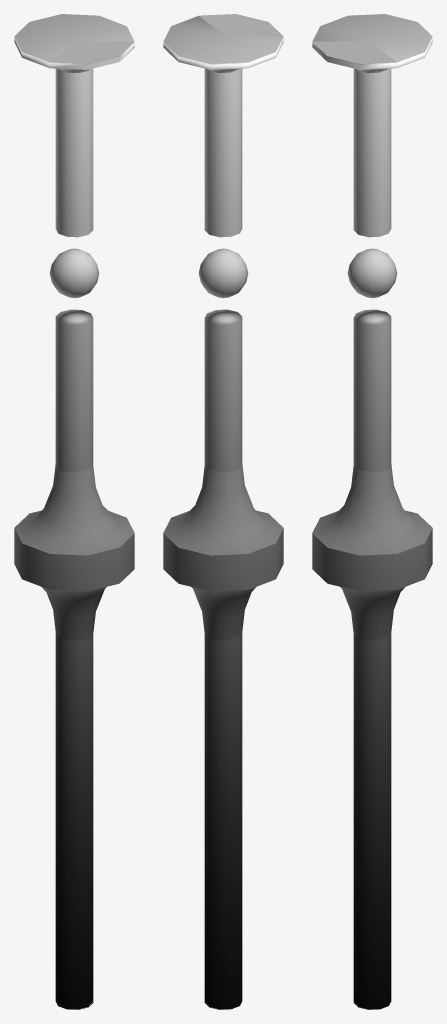
The model's file is BG_Column_V1.fbx.
3 renders of one model, left to right at view 1: azimuth 30°, elevation 25°; view 2: azimuth 150°, elevation 25°; view 3: azimuth 330°, elevation 25°, orthographic.
Visible parts, largest first — view 1: BG_Column_V1; view 2: BG_Column_V1; view 3: BG_Column_V1.
Boxes of the visible parts, <box> form: BG_Column_V1: <box>14,14,134,1009</box>; BG_Column_V1: <box>163,14,283,1009</box>; BG_Column_V1: <box>312,14,432,1009</box>.
Size of the model in its own units: 1097 by 9620 by 1043.
